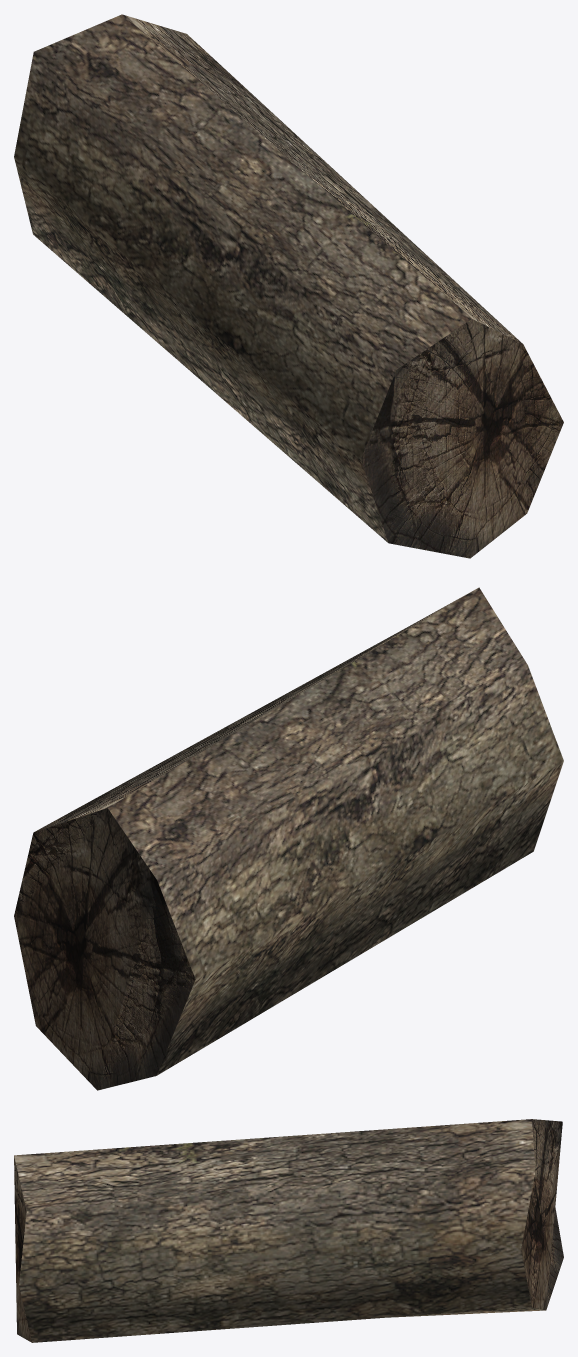
File: woodenPost06.FBX
The picture shows the model from 3 angles, top to bottom: view 1: azimuth 30°, elevation 25°; view 2: azimuth 150°, elevation 25°; view 3: azimuth 270°, elevation 25°; orthographic projection. The views are drawn at different scales.
Parts seen in each view (by area): view 1: wooden_fence_pole_broken3; view 2: wooden_fence_pole_broken3; view 3: wooden_fence_pole_broken3.
Boxes of the visible parts, <box> form: wooden_fence_pole_broken3: <box>14,14,563,558</box>; wooden_fence_pole_broken3: <box>14,587,563,1090</box>; wooden_fence_pole_broken3: <box>14,1119,563,1342</box>.
Bounding box in the file's own units: 28.68 × 41.6 × 96.46.
